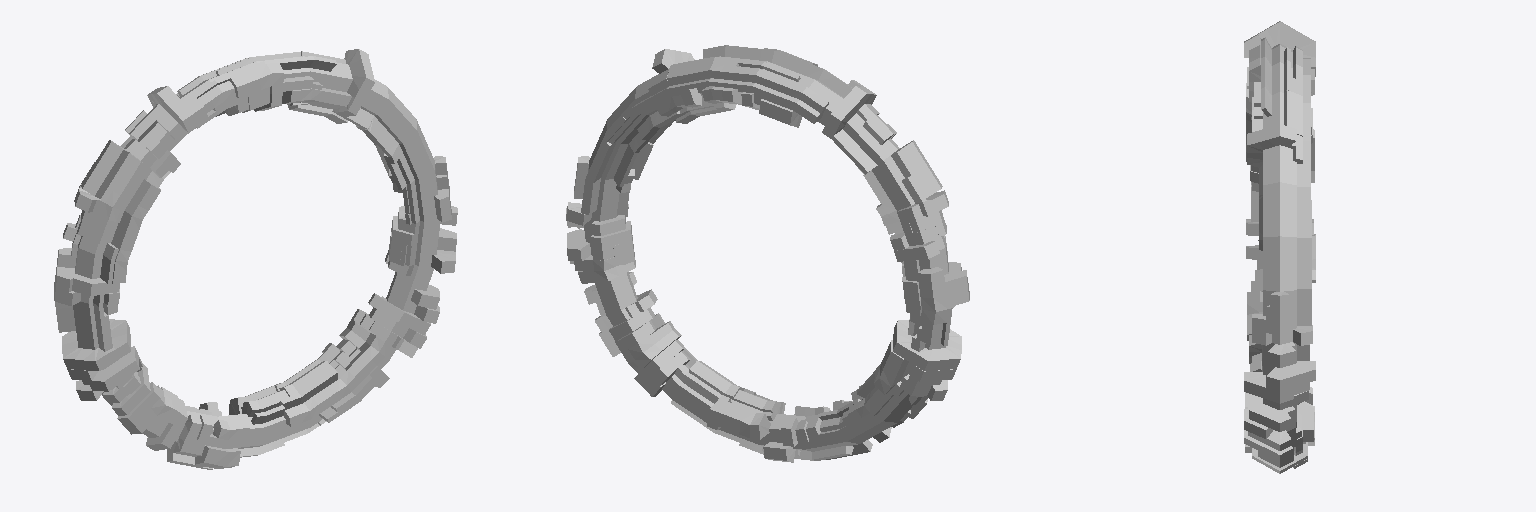
Rendered from Collison-col.obj.
The picture shows the model from 3 angles: view 1: azimuth 30°, elevation 25°; view 2: azimuth 150°, elevation 25°; view 3: azimuth 270°, elevation 25°; orthographic projection.
Visible parts, largest first — view 1: Checkpoint_RLExtr, Checkpoint; view 2: Checkpoint_RLExtr, Checkpoint; view 3: Checkpoint_RLExtr, Checkpoint.
Part boxes in pixels (left/top/right/bottom): Checkpoint_RLExtr: left=54, top=49, right=457, bottom=469; Checkpoint: left=73, top=56, right=440, bottom=448; Checkpoint_RLExtr: left=566, top=45, right=969, bottom=462; Checkpoint: left=584, top=56, right=948, bottom=451; Checkpoint_RLExtr: left=1244, top=21, right=1315, bottom=473; Checkpoint: left=1263, top=44, right=1296, bottom=427.
Size of the model in its own units: 2.4 by 2.28 by 0.373.